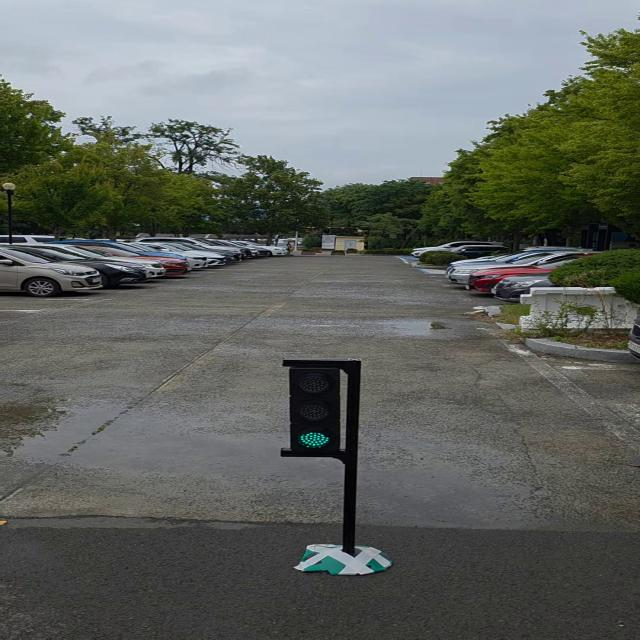green: (289, 361, 358, 460)
